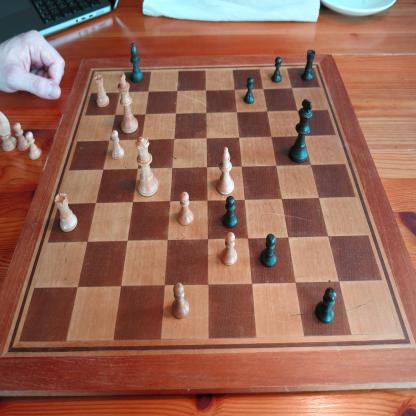black-bishop: (130, 42, 144, 84)
black-king: (288, 98, 312, 164)
black-pawn: (314, 286, 336, 324), (260, 233, 277, 269), (221, 195, 238, 229), (243, 75, 255, 105), (270, 56, 283, 83)
black-rook: (300, 48, 316, 82)
white-bishop: (216, 146, 234, 196)
white-king: (117, 72, 138, 134)
white-pawn: (172, 282, 190, 320), (177, 191, 194, 226), (221, 231, 237, 267), (25, 131, 42, 161), (13, 122, 30, 152), (110, 130, 124, 160)
white-queen: (134, 136, 160, 197)
white-rook: (54, 192, 78, 233), (93, 74, 110, 108)
